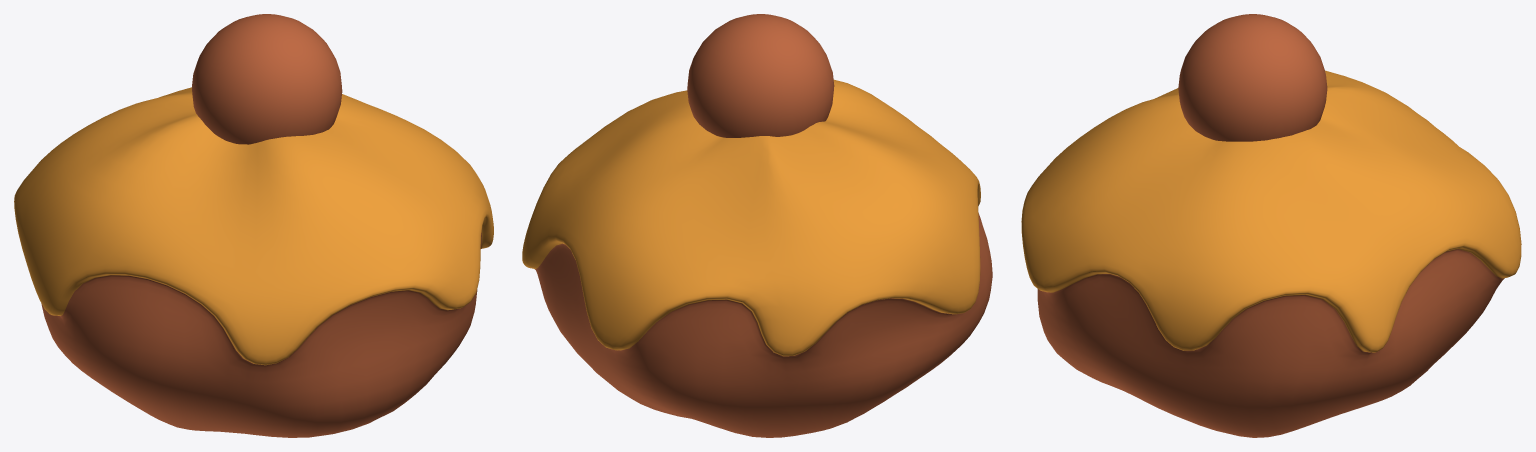
The model's file is Sweet_9.fbx.
The picture shows the model from 3 angles, left to right: view 1: azimuth 30°, elevation 25°; view 2: azimuth 150°, elevation 25°; view 3: azimuth 270°, elevation 25°; orthographic projection. The views are drawn at different scales.
Visible parts, largest first — view 1: Sweet_9; view 2: Sweet_9; view 3: Sweet_9.
Boxes of the visible parts, left/top/right/bottom form: Sweet_9: left=14, top=14, right=493, bottom=437; Sweet_9: left=522, top=14, right=992, bottom=437; Sweet_9: left=1021, top=14, right=1521, bottom=437.
Bounding box in the file's own units: 61.87 × 55.14 × 64.65.
